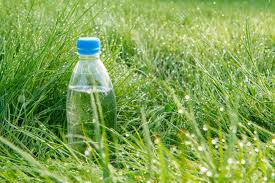plastic_bottle: (63, 36, 120, 164)
